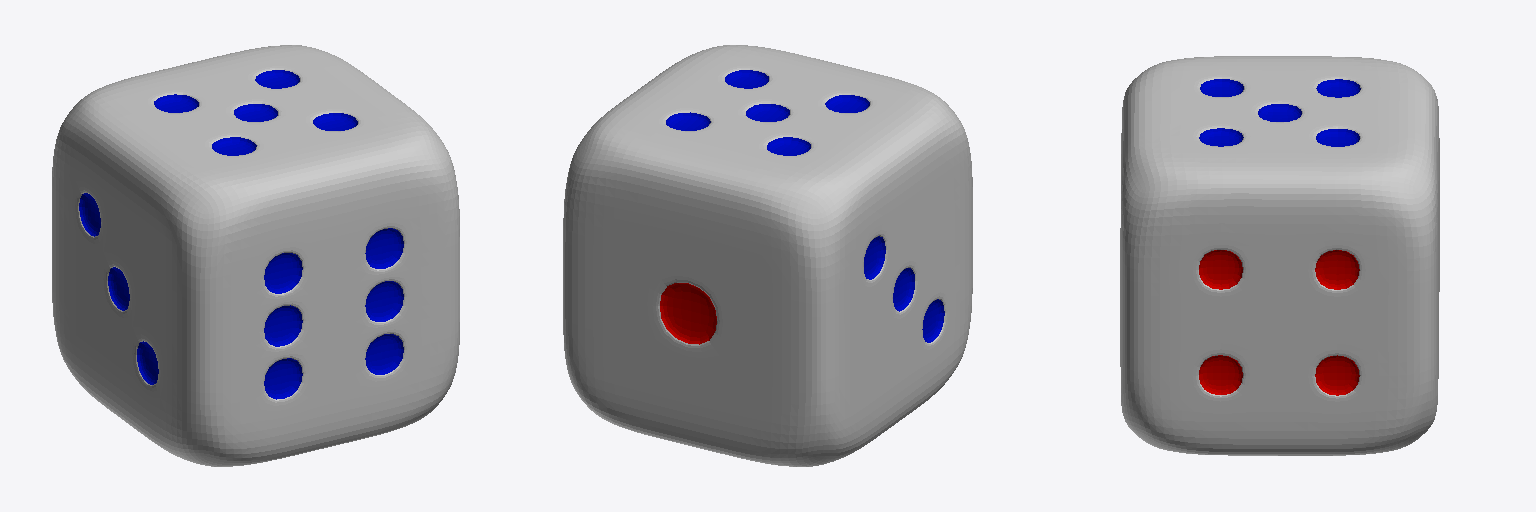
Rendered from Dice.obj.
3 views of the same model, side by side, from view 1: azimuth 30°, elevation 25°; view 2: azimuth 150°, elevation 25°; view 3: azimuth 270°, elevation 25° (orthographic).
Parts seen in each view (by area): view 1: Cube; view 2: Cube; view 3: Cube.
Part boxes in pixels (x1,y1,x2,y2): Cube: (52, 45, 459, 466); Cube: (563, 45, 972, 466); Cube: (1120, 56, 1439, 455).
Size of the model in its own units: 2.01 by 2 by 2.01.